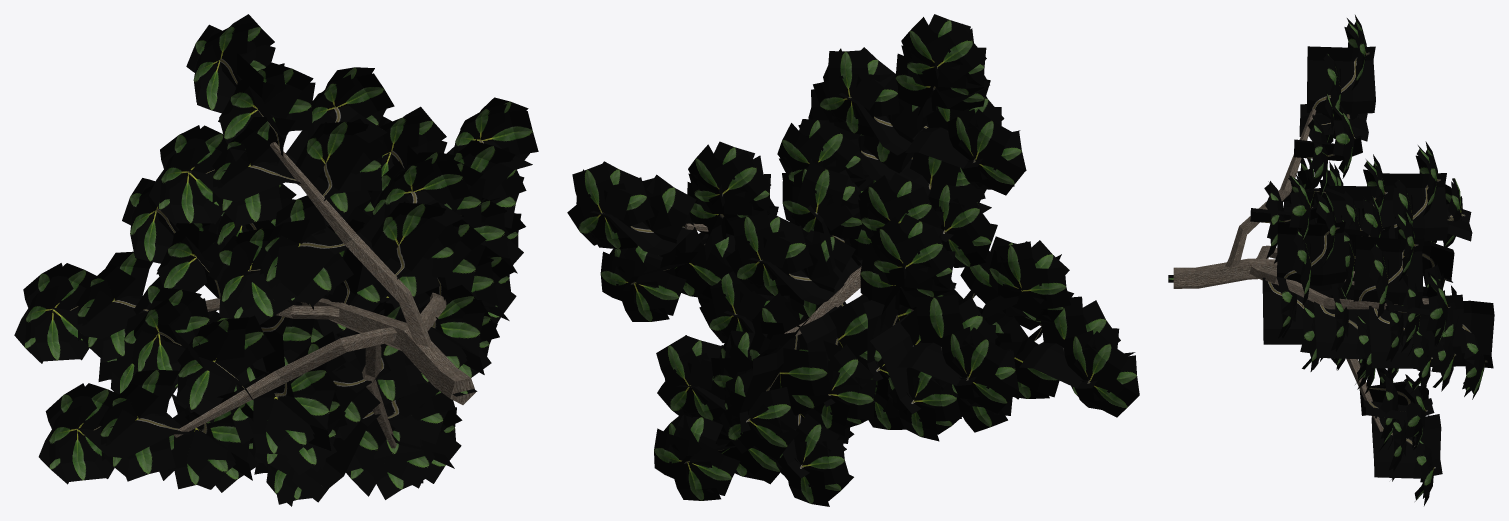
Rendered from Rhododendron New.fbx.
3 views of the same model, side by side, from view 1: azimuth 30°, elevation 25°; view 2: azimuth 150°, elevation 25°; view 3: azimuth 270°, elevation 25° (orthographic). The views are drawn at different scales.
Visible parts, largest first — view 1: Trunk; view 2: Trunk; view 3: Trunk.
Boxes of the visible parts, left/top/right/bottom form: Trunk: left=14, top=14, right=538, bottom=506; Trunk: left=567, top=14, right=1139, bottom=506; Trunk: left=1173, top=15, right=1494, bottom=505.
Size of the model in its own units: 4177 by 3940 by 2904.
Materials: 363 (363 with a texture image).
